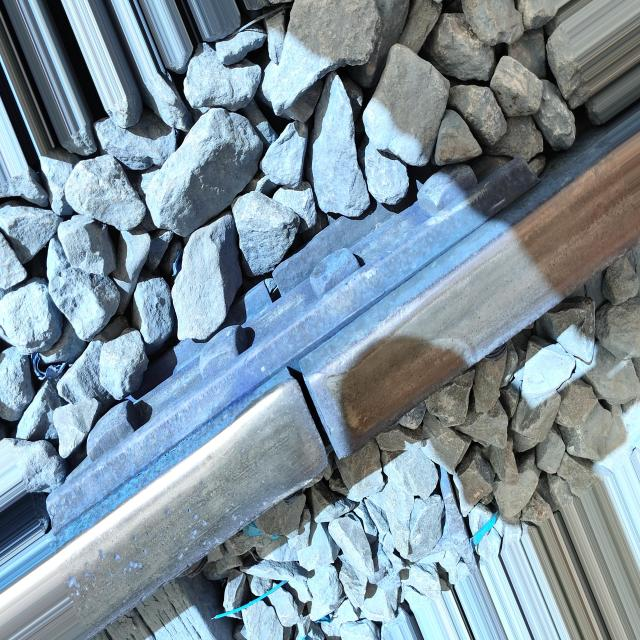crack: (266, 344, 362, 504)
